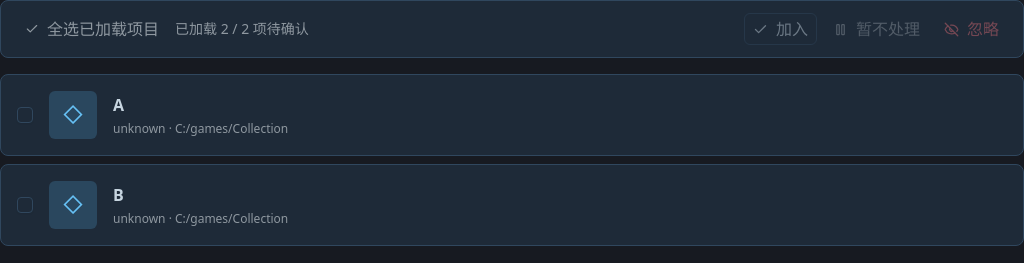
Scenario: clears only the candidates the backend accepted when part of a batch fails
The width and height of the screenshot is (1024, 263).
Click the button "全选已加载项目": coordinates (92, 29) [17,13,167,45]
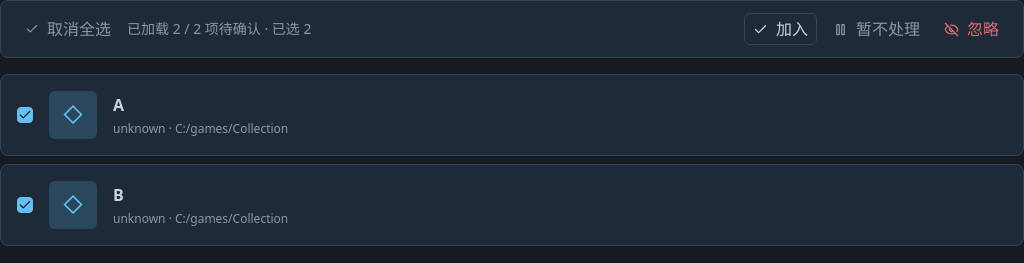
Check: the checkbox named "选择 A" is checked, box [17,107,33,123]
Click the button "加入": coordinates (780, 29) [744,13,817,45]
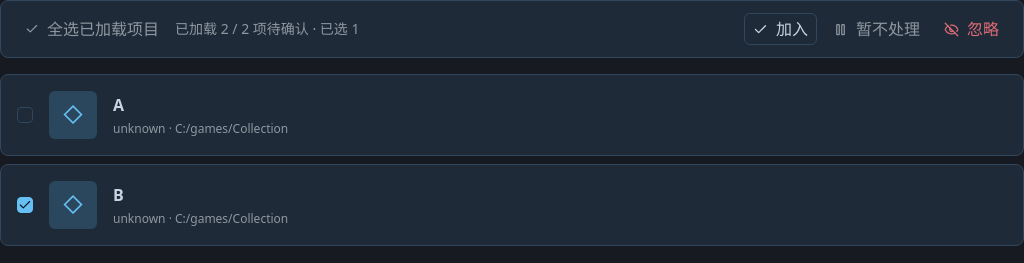
Check: the checkbox named "选择 B" is checked, box [17,197,33,213]
Check: the checkbox named "选择 A" is not checked, box [17,107,33,123]
